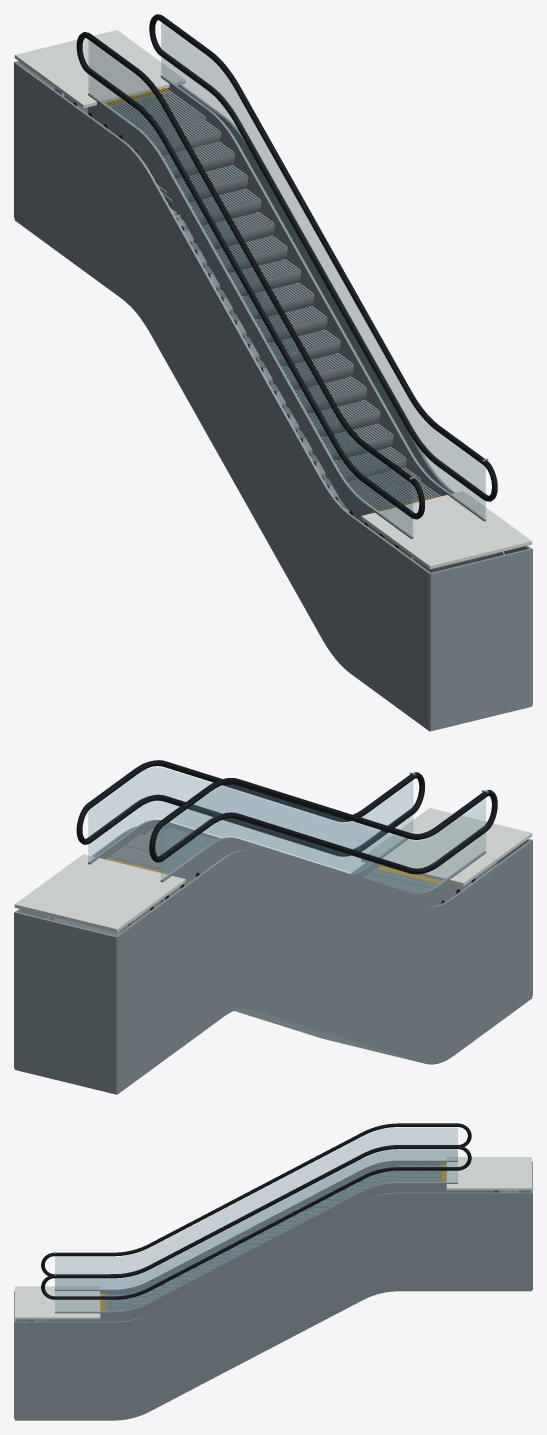
File: edited.glb
The picture shows the model from 3 angles, top to bottom: view 1: azimuth 30°, elevation 25°; view 2: azimuth 150°, elevation 25°; view 3: azimuth 270°, elevation 25°; orthographic projection. The views are drawn at different scales.
Parts seen in each view (by area): view 1: TRUSS_L, TRUSS_End_Lower, GUARD_L, GUARD_R, SKIRT_L, HANDRAIL_R, HANDRAIL_L, LANDING_Lower, LANDING_Upper, SKIRT_R, TRUSS_R, TRUSS_Bottom (+17 smaller); view 2: TRUSS_L, TRUSS_End_Upper, GUARD_L, GUARD_R, LANDING_Upper, LANDING_Lower, HANDRAIL_L, HANDRAIL_R, SKIRT_L, TRUSS_Bottom, SKIRT_R, STEP_BODY_21 (+5 smaller); view 3: TRUSS_R, GUARD_R, GUARD_L, SKIRT_R, HANDRAIL_R, LANDING_Upper, LANDING_Lower, SKIRT_L, HANDRAIL_L, TRUSS_Bottom.
Boxes of the visible parts, x1=… form: TRUSS_L: x1=14, y1=63, x2=430, y2=728; TRUSS_End_Lower: x1=429, y1=548, x2=532, y2=729; GUARD_L: x1=88, y1=41, x2=412, y2=535; GUARD_R: x1=161, y1=23, x2=485, y2=517; SKIRT_L: x1=88, y1=93, x2=413, y2=559; HANDRAIL_R: x1=149, y1=14, x2=497, y2=501; HANDRAIL_L: x1=76, y1=32, x2=424, y2=519; LANDING_Lower: x1=361, y1=491, x2=532, y2=569; LANDING_Upper: x1=14, y1=30, x2=185, y2=108; SKIRT_R: x1=160, y1=75, x2=486, y2=521; TRUSS_R: x1=138, y1=85, x2=530, y2=561; TRUSS_Bottom: x1=14, y1=218, x2=532, y2=731; TRUSS_L: x1=116, y1=841, x2=532, y2=1091; TRUSS_End_Upper: x1=14, y1=911, x2=117, y2=1092; GUARD_L: x1=161, y1=785, x2=485, y2=891; GUARD_R: x1=88, y1=767, x2=412, y2=873; LANDING_Upper: x1=14, y1=854, x2=185, y2=932; LANDING_Lower: x1=361, y1=808, x2=532, y2=886; HANDRAIL_L: x1=149, y1=778, x2=497, y2=874; HANDRAIL_R: x1=76, y1=760, x2=424, y2=856; SKIRT_L: x1=160, y1=837, x2=486, y2=906; TRUSS_Bottom: x1=14, y1=996, x2=532, y2=1094; SKIRT_R: x1=88, y1=819, x2=413, y2=877; STEP_BODY_21: x1=110, y1=845, x2=186, y2=871; TRUSS_R: x1=15, y1=1192, x2=531, y2=1418; GUARD_R: x1=55, y1=1150, x2=457, y2=1310; GUARD_L: x1=55, y1=1128, x2=457, y2=1288; SKIRT_R: x1=55, y1=1182, x2=457, y2=1321; HANDRAIL_R: x1=41, y1=1145, x2=471, y2=1299; LANDING_Upper: x1=446, y1=1157, x2=531, y2=1190; LANDING_Lower: x1=15, y1=1286, x2=100, y2=1319; SKIRT_L: x1=55, y1=1160, x2=457, y2=1303; HANDRAIL_L: x1=41, y1=1123, x2=471, y2=1275; TRUSS_Bottom: x1=15, y1=1289, x2=531, y2=1420.
Bounding box in the file's own units: 1.55 × 6.28 × 10.92.
